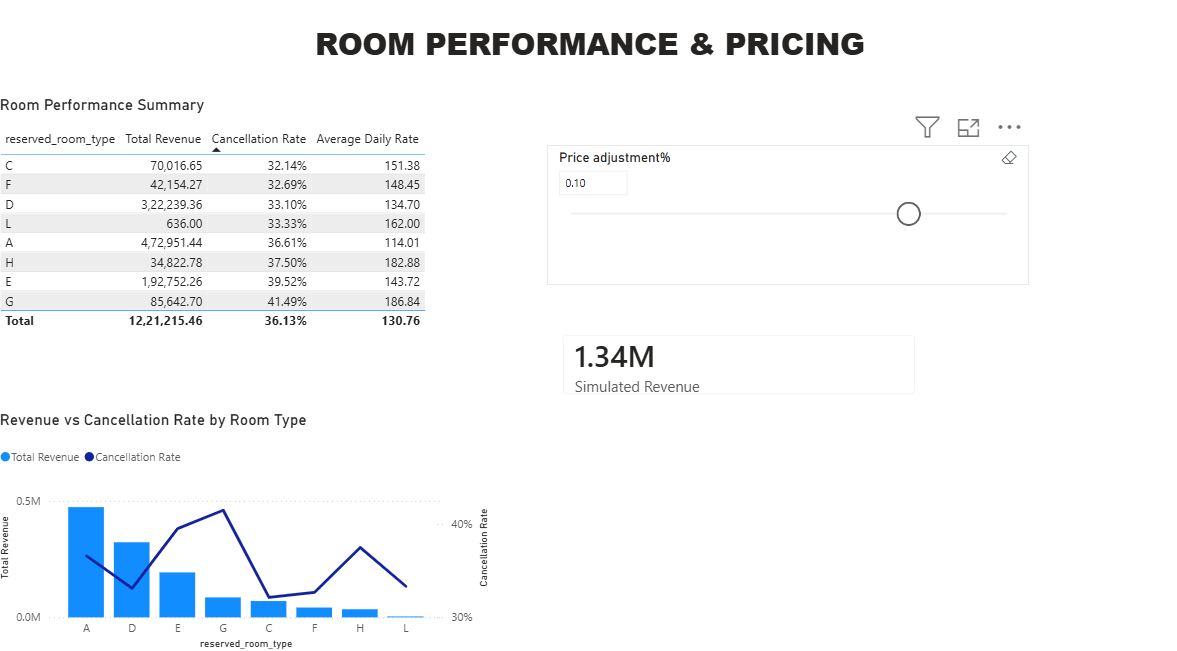

The dashboard page shown, as its layout file describes it:
{"tool":"powerbi","page":{"name":"Page 5","canvas":[1280,720],"ordinal":4},"visuals":[{"type":"textbox","box":[9.7,34,1256.5,84.2],"z":0},{"type":"tableEx","title":"Room Performance Summary","fields":{"Values":["hotelanalytics hotel_bookings_clean.reserved_room_type","hotelanalytics hotel_bookings_clean.Total Revenue","hotelanalytics hotel_bookings_clean.Cancellation Rate","hotelanalytics hotel_bookings_clean.Average Daily Rate"]},"box":[0,118.2,537.6,330.3],"z":1000},{"type":"slicer","fields":{"Values":["Price adjustment%.Price adjustment%"]},"box":[595.9,171.6,519.8,150.6],"z":2000},{"type":"cardVisual","fields":{"Data":["Price adjustment%.Simulated Revenue"]},"box":[595.9,359.5,414.5,98.8],"z":3000},{"type":"lineClusteredColumnComboChart","title":"Revenue vs Cancellation Rate by Room Type","fields":{"Category":["hotelanalytics hotel_bookings_clean.reserved_room_type"],"Y":["hotelanalytics hotel_bookings_clean.Total Revenue"],"Y2":["hotelanalytics hotel_bookings_clean.Cancellation Rate"]},"box":[0,458.2,537.6,262.3],"z":4000},{"type":"textbox","box":[1130,449,150,262],"z":5000}]}

Visuals, with their boxes in screenshot pixels (x1, y1, x2, y2), scaled from the page's 1280x720 canvas onto the 1177x651 screenshot:
textbox: bbox=(9, 31, 1164, 107)
"Room Performance Summary" tableEx: bbox=(0, 107, 494, 406)
slicer - Price adjustment%.Price adjustment%: bbox=(548, 155, 1026, 291)
cardVisual - Price adjustment%.Simulated Revenue: bbox=(548, 325, 929, 414)
"Revenue vs Cancellation Rate by Room Type" lineClusteredColumnComboChart: bbox=(0, 414, 494, 650)
textbox: bbox=(1039, 406, 1176, 643)
